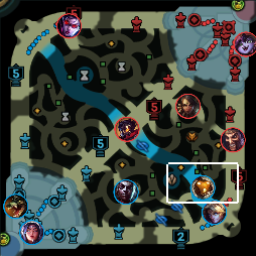bard: (192, 176, 215, 201)
draven: (221, 127, 246, 151)
ekko: (114, 179, 138, 204)
ezreal: (201, 200, 228, 224)
irelia: (20, 221, 42, 245)
lulu: (232, 31, 256, 56)
nidalee: (176, 92, 200, 120)
renekton: (3, 195, 26, 218)
vayne: (54, 12, 80, 38)
viktor: (115, 116, 138, 141)
